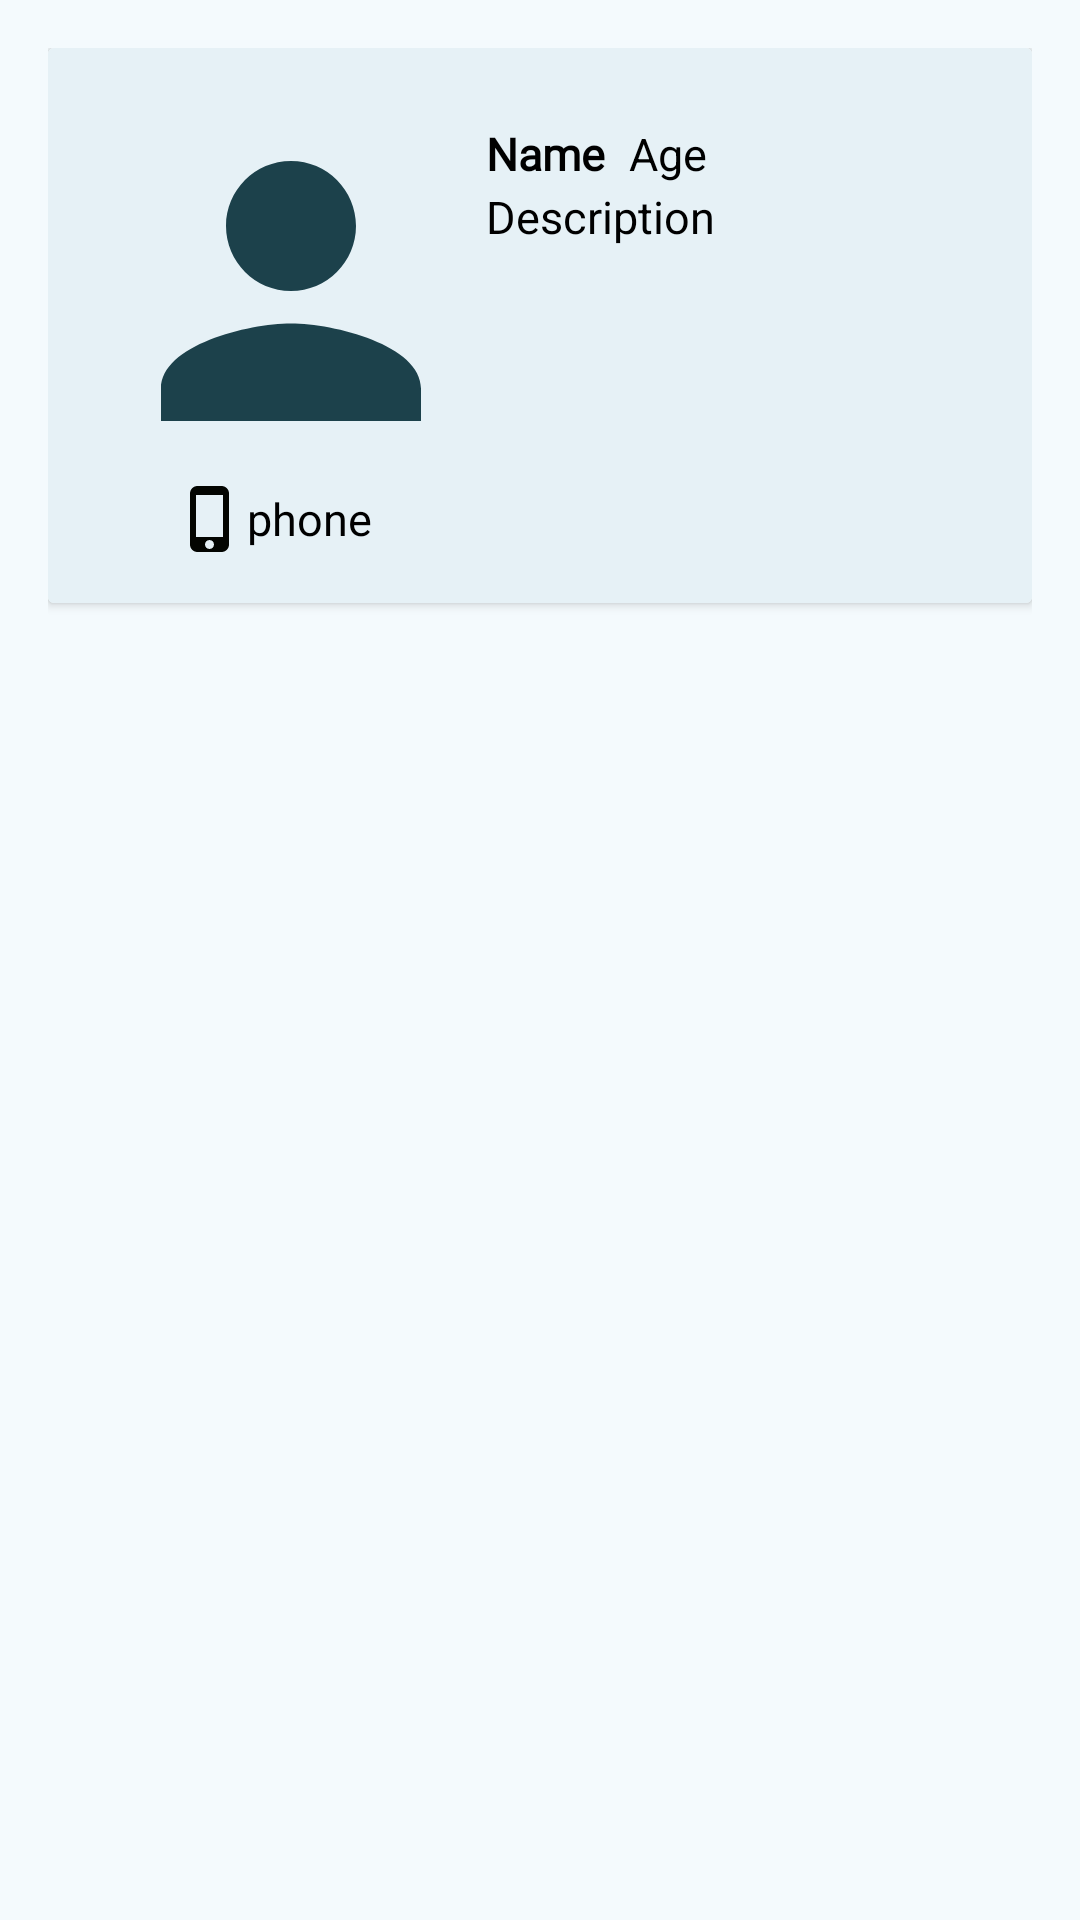

Point at icon controls on the screen. Image size 1080 × 1920, points as point (x, y).
person: point (291, 291)
